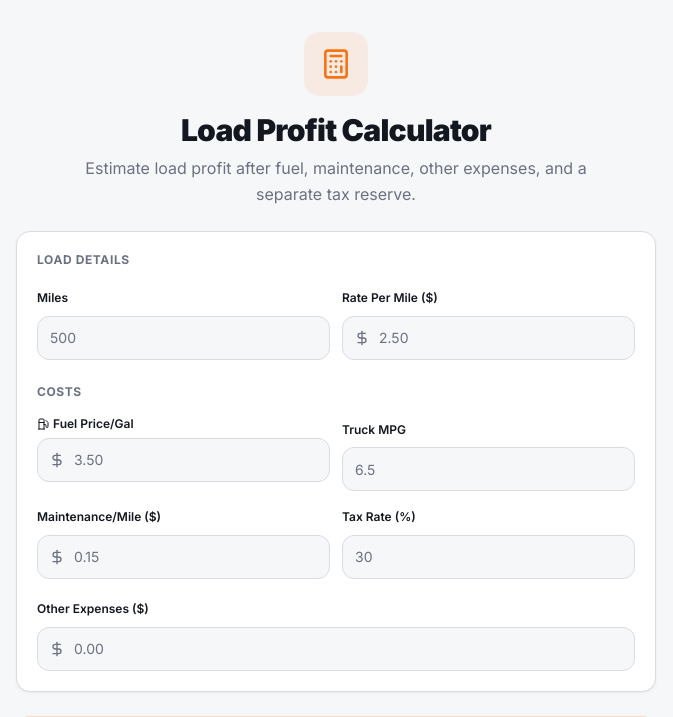
F2 public calculator interaction › withholds the first calculator result until fuel MPG is corrected
This screenshot has width=673, height=717.
Type "1000" into the number field with placeholder "500". click: (184, 338)
box: [37,316,330,360]
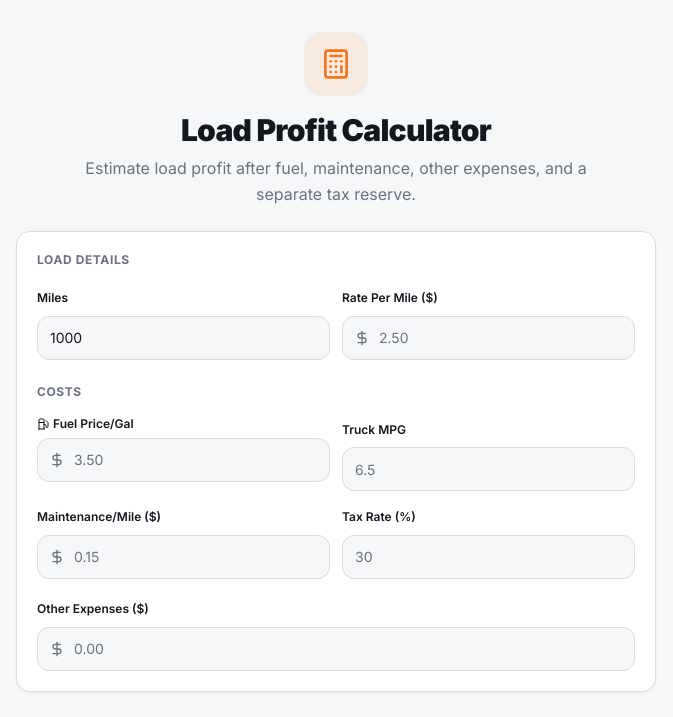
Type "3" into the number field with placeholder "2.50". click: (488, 338)
box: [342,316,635,360]
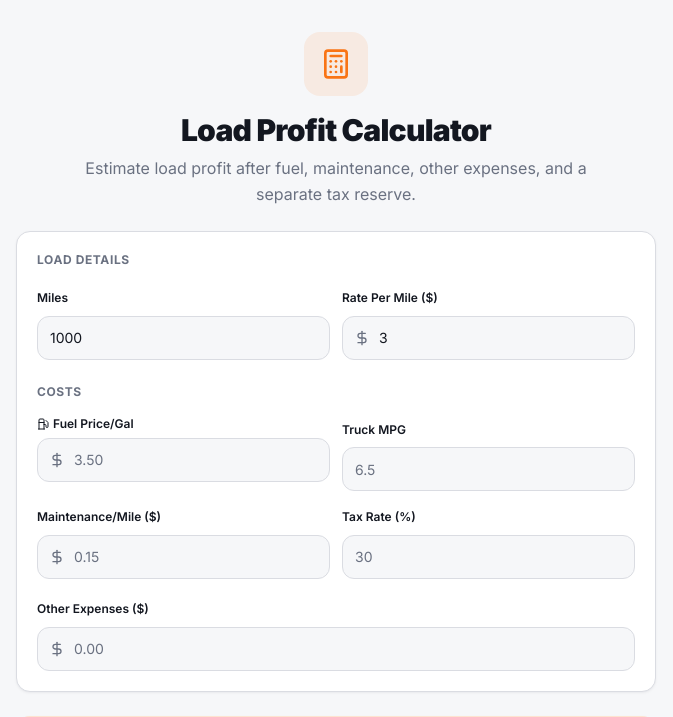
Type "4" into the number field with placeholder "3.50". click: (184, 460)
box: [37,438,330,482]
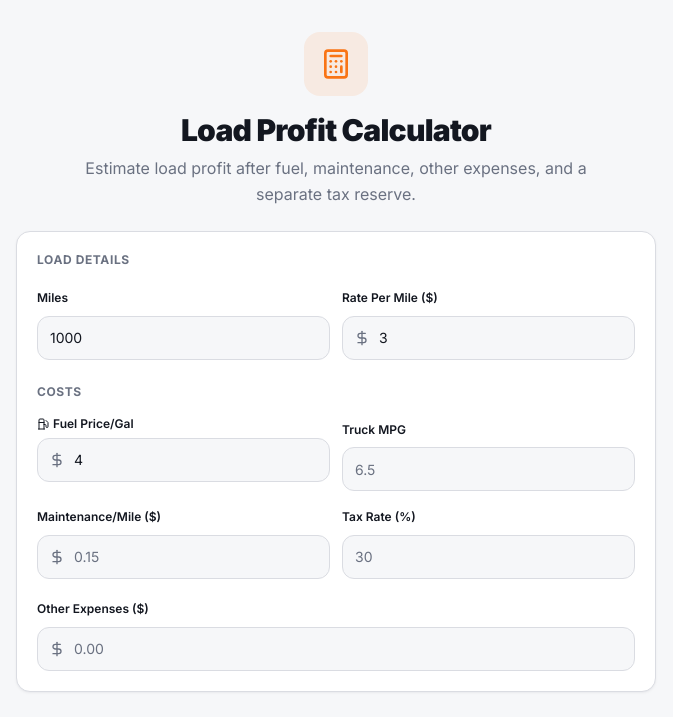
Type "10" into the number field with placeholder "6.5". click: (488, 469)
box: [342,447,635,491]
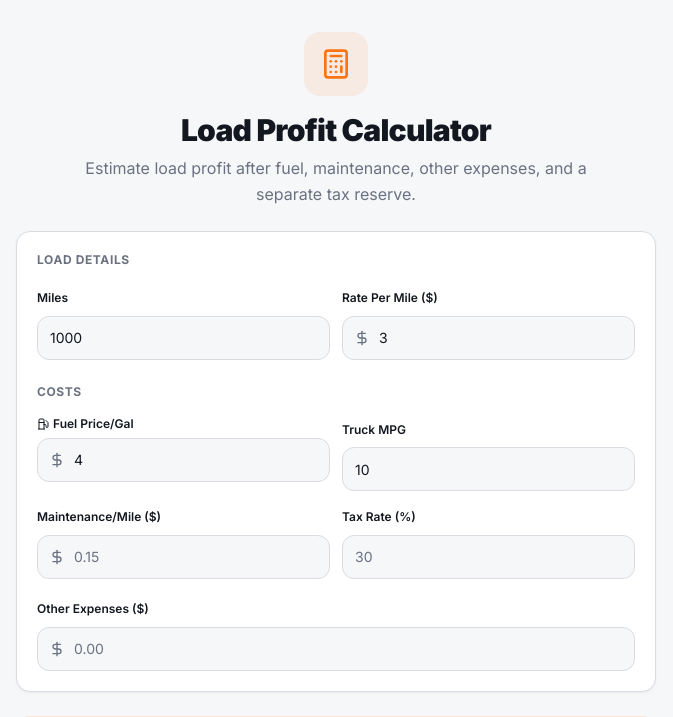
Type "-1" into the number field with placeholder "0.00". click: (336, 649)
box: [37,627,635,671]
(page scrolled)
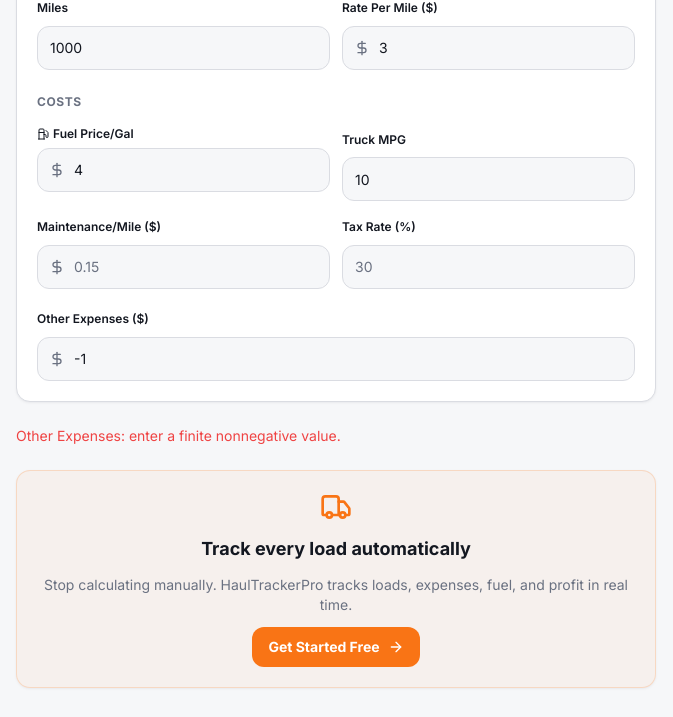
Now the message "Other Expenses: enter a finite nonnegative value." is shown, box [16,427,341,444]
